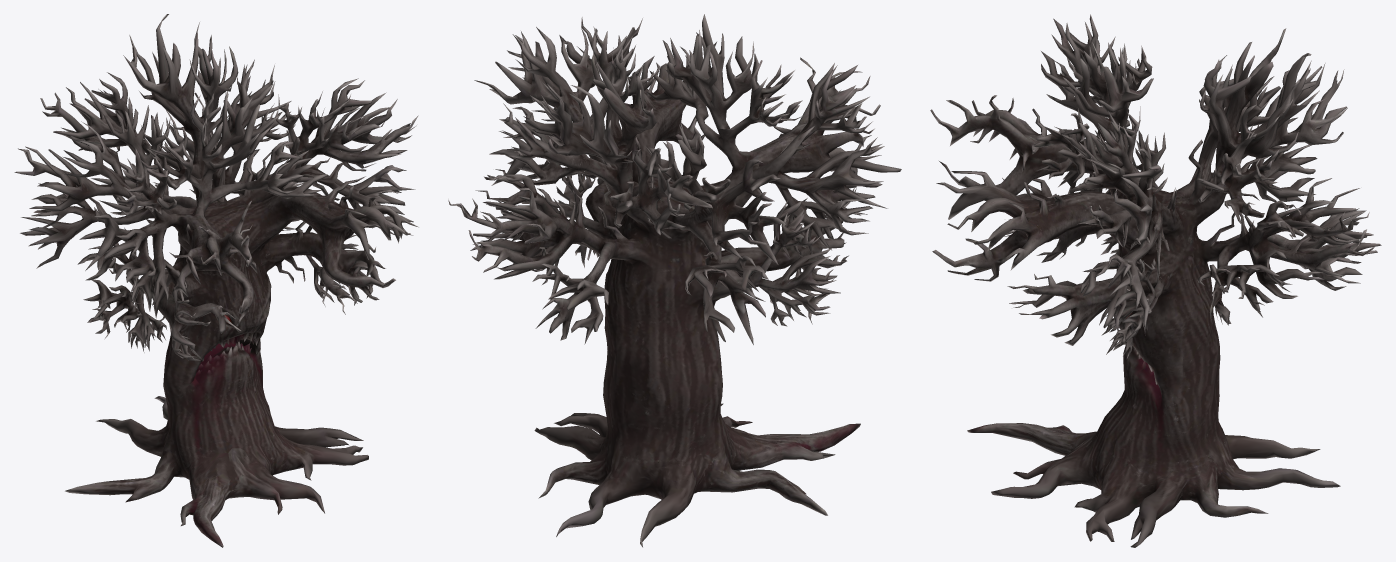
Rendered from MZ4250 - Tree Blight.glb.
The picture shows the model from 3 angles, left to right: view 1: azimuth 30°, elevation 25°; view 2: azimuth 150°, elevation 25°; view 3: azimuth 270°, elevation 25°; orthographic projection. The views are drawn at different scales.
Parts seen in each view (by area): view 1: TreeBlight; view 2: TreeBlight; view 3: TreeBlight.
Boxes of the visible parts, x1=… form: TreeBlight: x1=14, y1=14, x2=418, y2=547; TreeBlight: x1=448, y1=14, x2=901, y2=547; TreeBlight: x1=930, y1=14, x2=1381, y2=547.
Size of the model in its own units: 1.72 by 1.87 by 1.76.
Materials: 1 (1 with a texture image).
